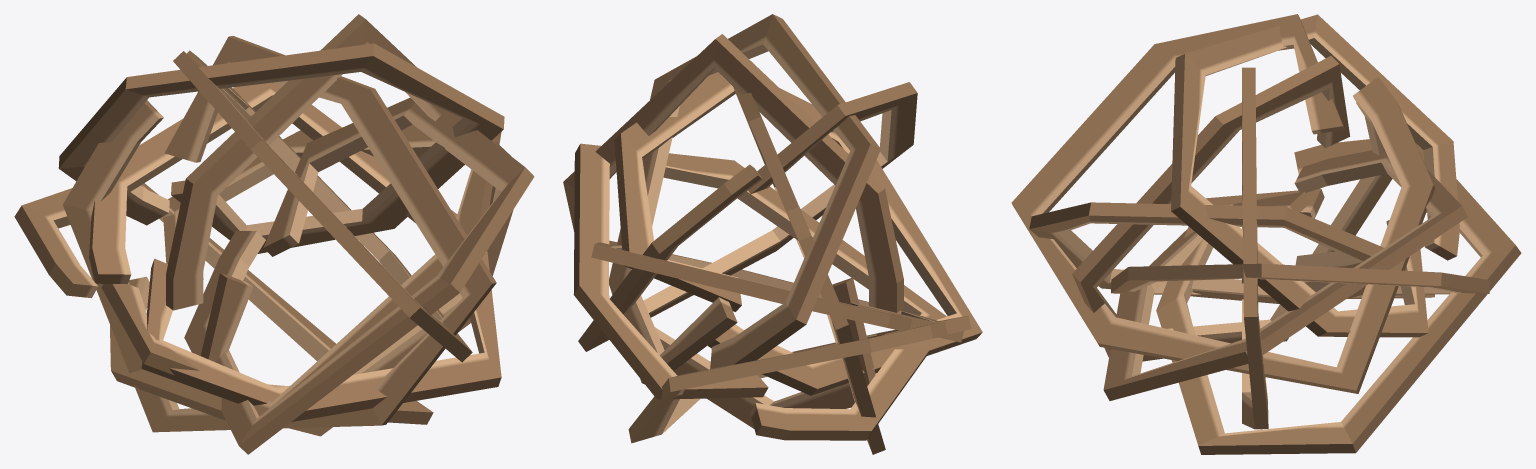
The model's file is tumbleweed.glb.
3 renders of one model, left to right at view 1: azimuth 30°, elevation 25°; view 2: azimuth 150°, elevation 25°; view 3: azimuth 270°, elevation 25°, orthographic. The views are drawn at different scales.
Parts seen in each view (by area): view 1: Street straw; view 2: Street straw; view 3: Street straw.
Boxes of the visible parts, box(x1,y1,x2,y2) form: Street straw: box(14, 14, 534, 454); Street straw: box(563, 14, 982, 454); Street straw: box(1011, 14, 1521, 454).
Size of the model in its own units: 1.01 by 0.9181 by 1.12.
Materials: 1 (1 with a texture image).
